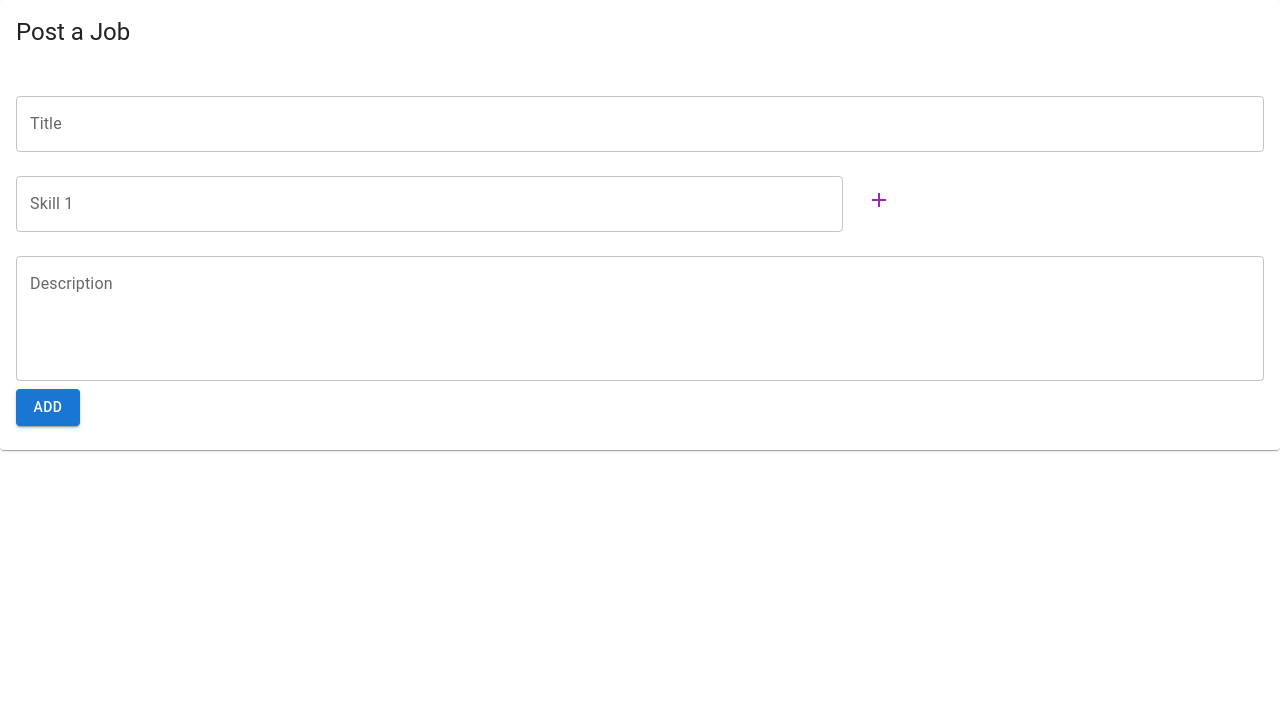
JobForm component interaction › should return validation error with blank fields while submitting.
Click the submit button.
click(48, 407)  # box top-left (16, 389), bottom-right (80, 426)
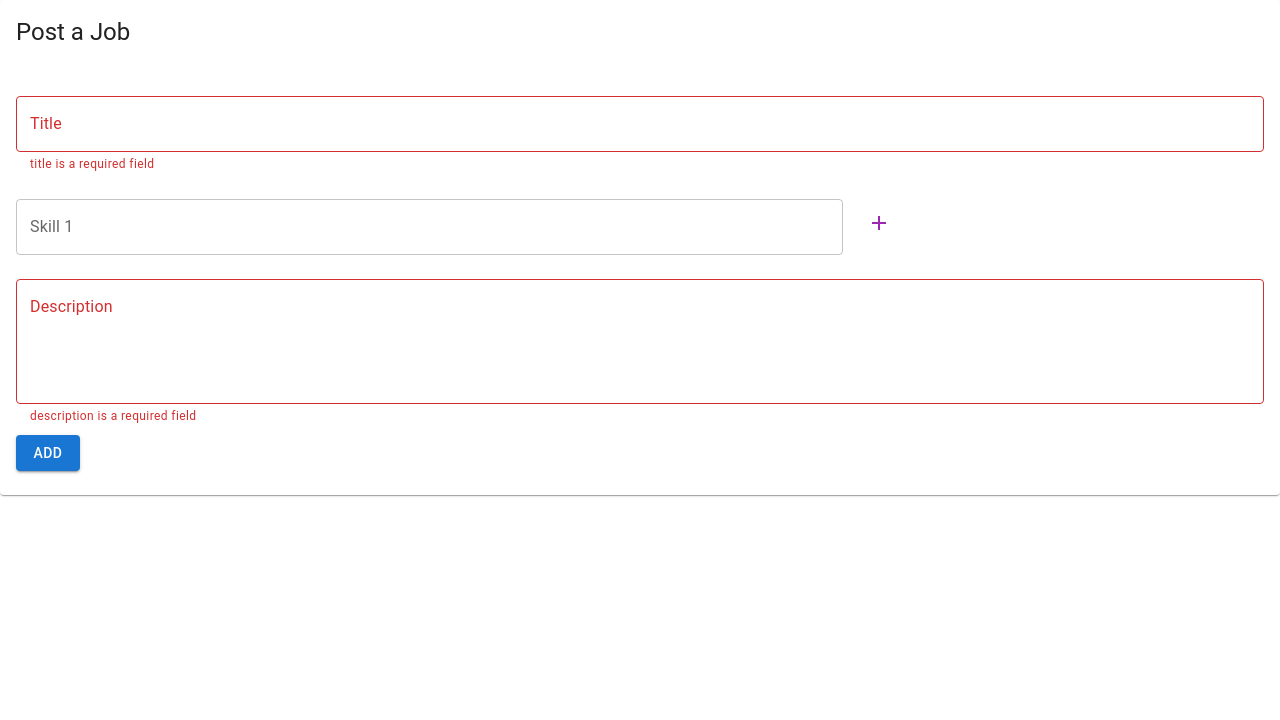
expect the text "title is a required field" is shown: met, box top-left (30, 157), bottom-right (154, 171)
expect the text "description is a required field" is shown: met, box top-left (30, 409), bottom-right (196, 423)
